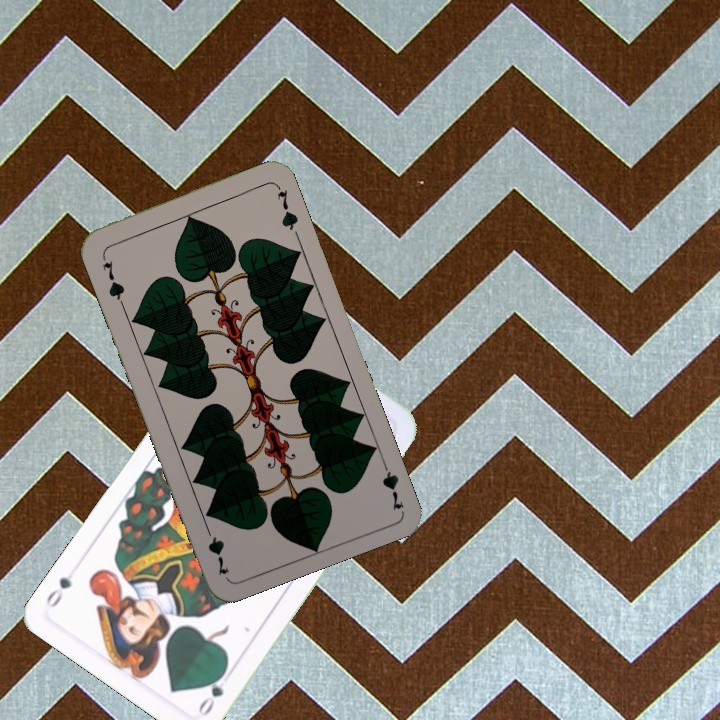G7: (377, 454, 407, 513), (98, 250, 128, 307)
GO: (194, 665, 229, 719)
